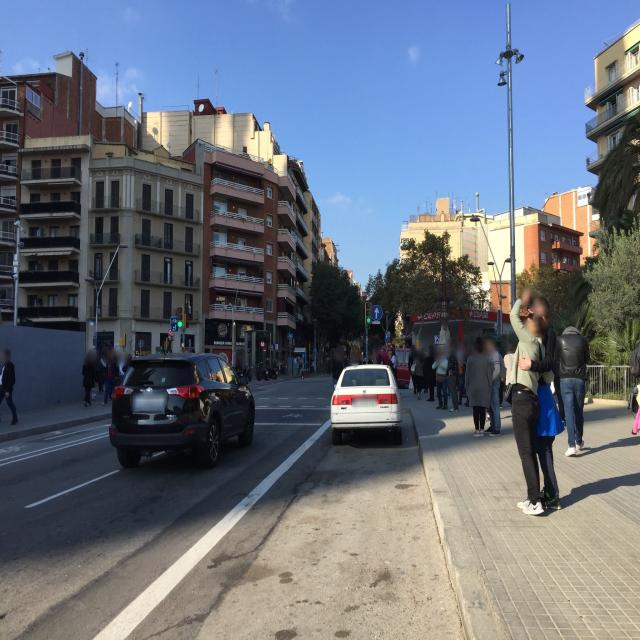car: (109, 350, 255, 470), (330, 364, 403, 444)
